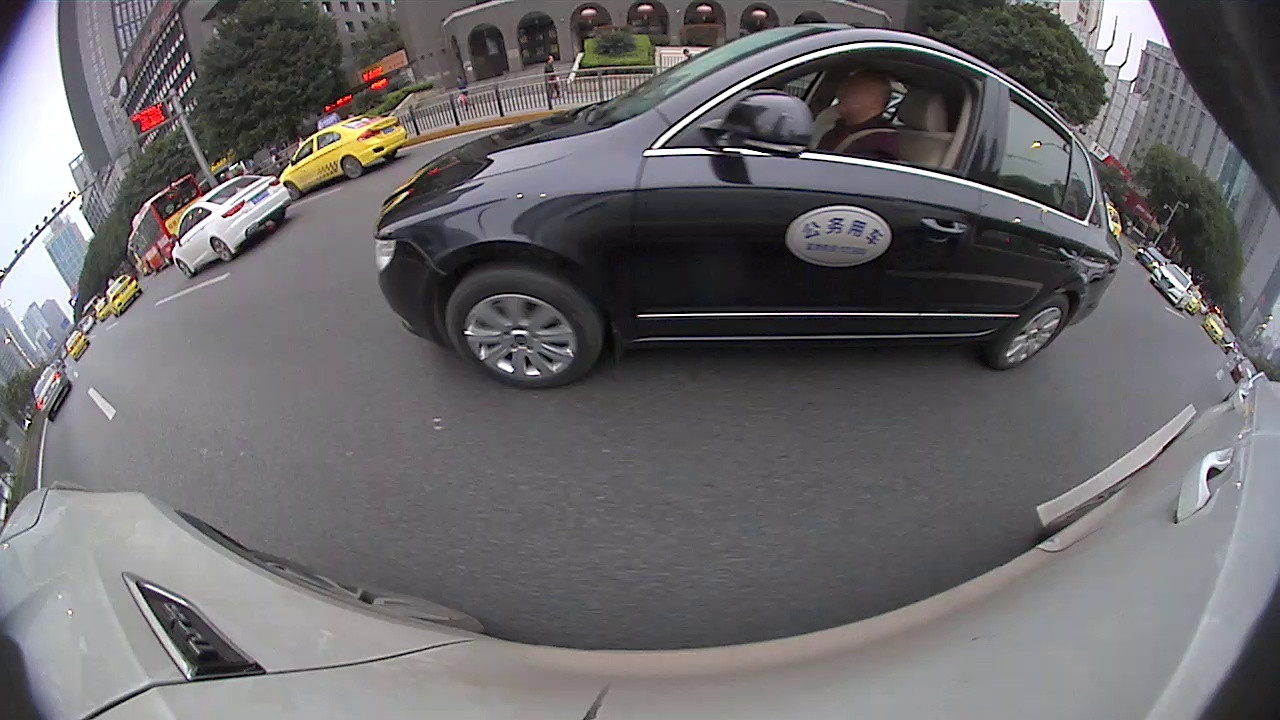bus: (125, 173, 205, 276)
car: (373, 21, 1120, 390), (169, 171, 295, 277), (278, 112, 410, 197), (1148, 261, 1194, 311), (33, 364, 72, 422), (104, 274, 143, 319), (63, 329, 92, 362), (1202, 310, 1227, 346), (1134, 246, 1167, 273)
front: (444, 261, 605, 390), (282, 179, 304, 202), (172, 260, 196, 281)
rear: (981, 290, 1071, 376), (209, 235, 237, 262), (339, 154, 364, 182)
